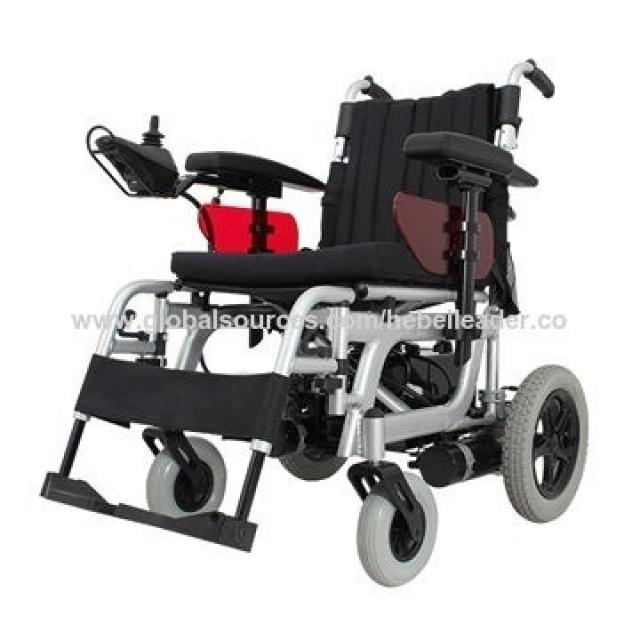wheelchair: (33, 60, 595, 592)
